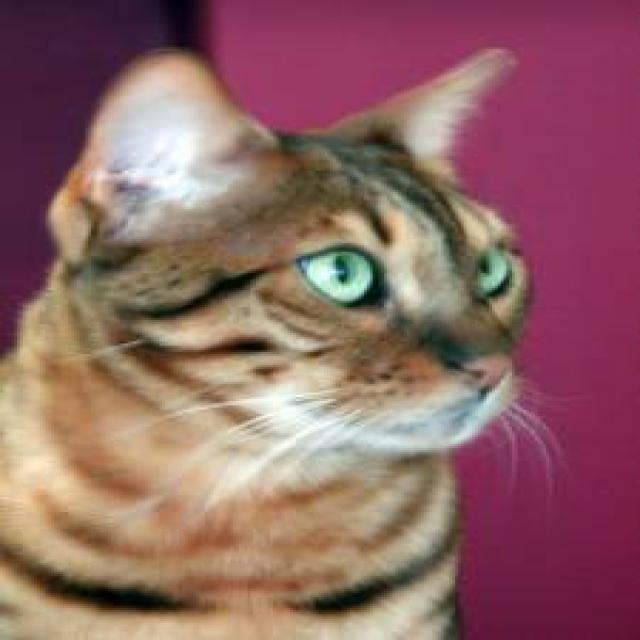Bengal: (40, 45, 529, 448)
